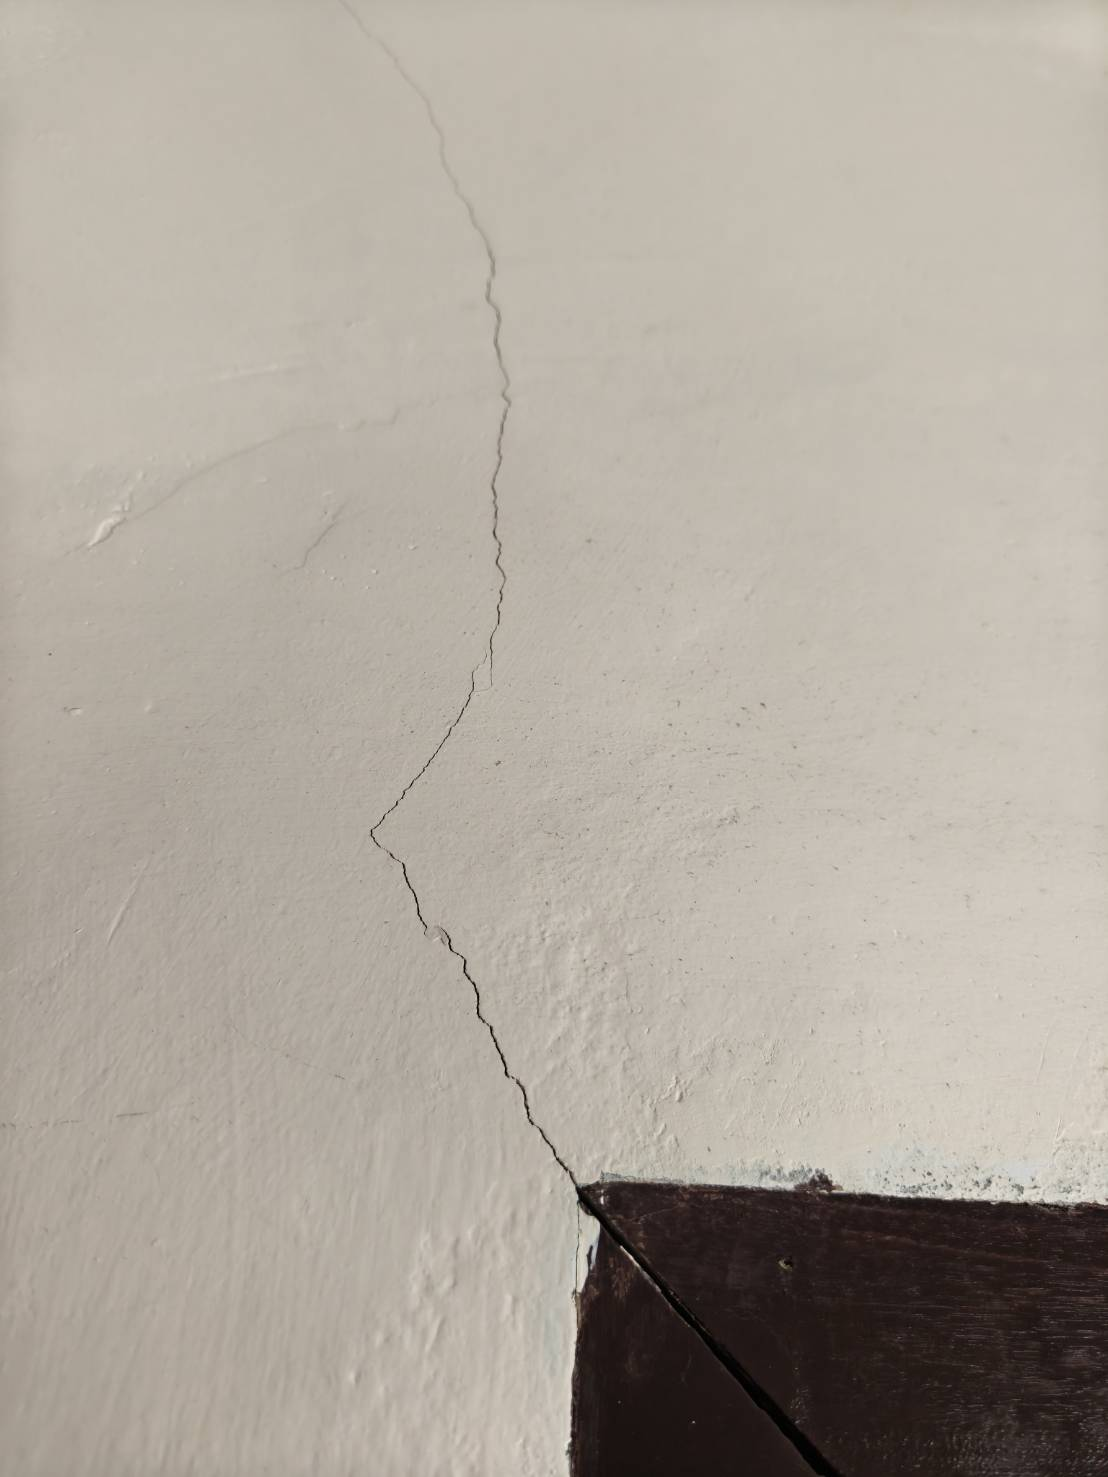Low: (183, 1, 602, 1206)
